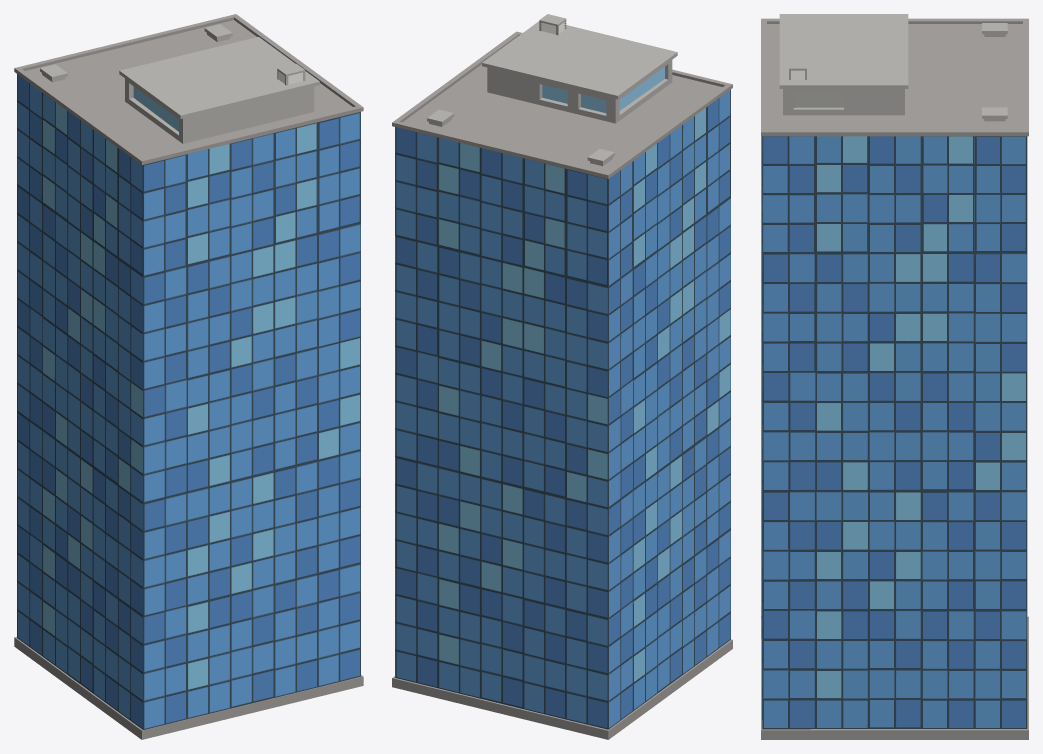
The model's file is daxingjianzhu_fangxing.fbx.
3 views of the same model, side by side, from view 1: azimuth 30°, elevation 25°; view 2: azimuth 150°, elevation 25°; view 3: azimuth 270°, elevation 25° (orthographic). The views are drawn at different scales.
Visible parts, largest first — view 1: daxingjianzhu_fangxing; view 2: daxingjianzhu_fangxing; view 3: daxingjianzhu_fangxing.
Boxes of the visible parts, x1,y1,x2,y2 form: daxingjianzhu_fangxing: (14, 14, 363, 739); daxingjianzhu_fangxing: (392, 14, 732, 739); daxingjianzhu_fangxing: (761, 14, 1028, 739).
Bounding box in the file's own units: 9.97 × 26.51 × 9.93.
